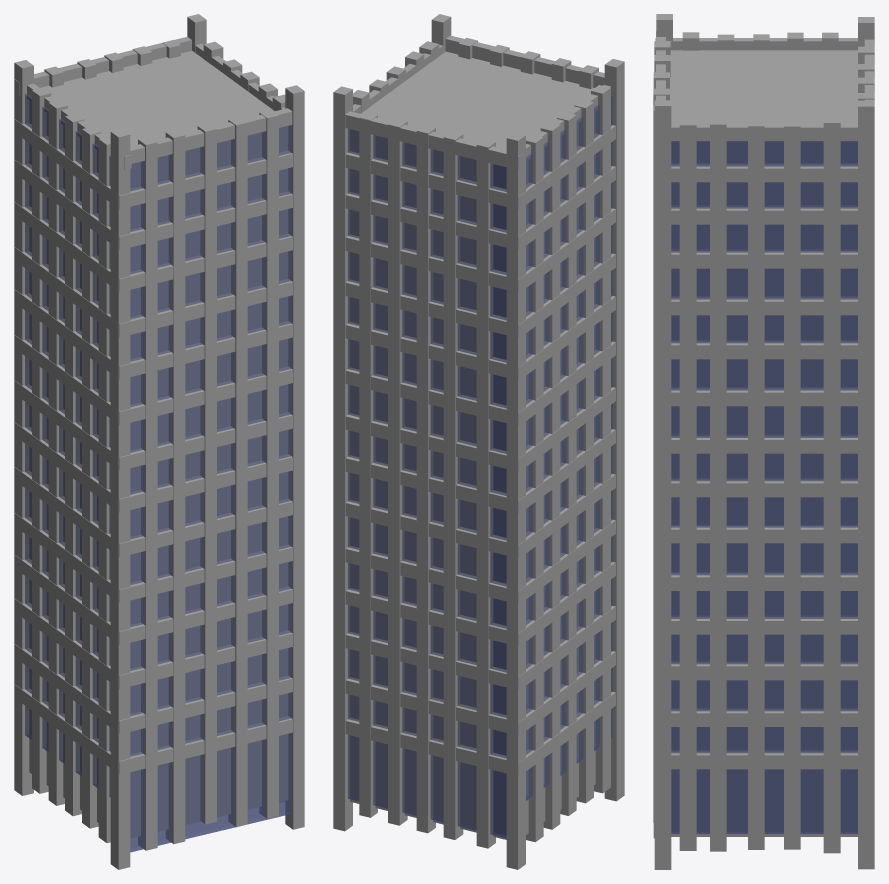
File: build4.fbx
3 renders of one model, left to right at view 1: azimuth 30°, elevation 25°; view 2: azimuth 150°, elevation 25°; view 3: azimuth 270°, elevation 25°, orthographic. The views are drawn at different scales.
Parts seen in each view (by area): view 1: pCube74; view 2: pCube74; view 3: pCube74.
Boxes of the visible parts, box(x1,y1,x2,y2) form: pCube74: box(14, 14, 304, 869); pCube74: box(333, 14, 624, 869); pCube74: box(653, 14, 874, 869).
Bounding box in the file's own units: 1.11 × 4.22 × 1.11.
